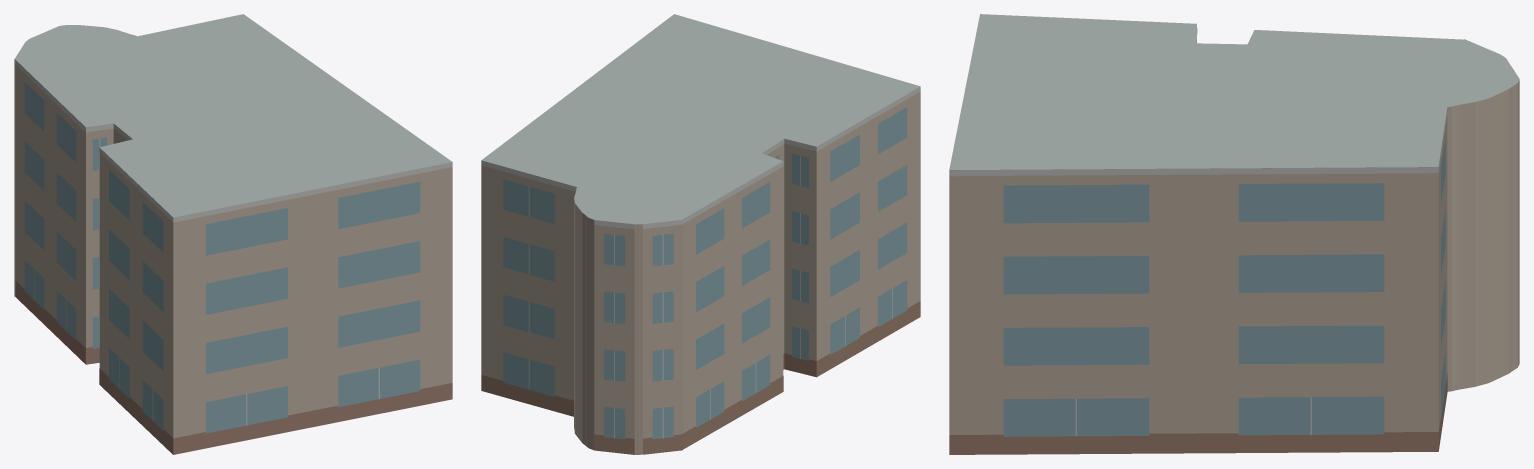
The model's file is survey-upis-32772041.glb.
3 renders of one model, left to right at view 1: azimuth 30°, elevation 25°; view 2: azimuth 150°, elevation 25°; view 3: azimuth 270°, elevation 25°, orthographic. The views are drawn at different scales.
Visible parts, largest first — view 1: survey-upis-32772041.tmp; view 2: survey-upis-32772041.tmp; view 3: survey-upis-32772041.tmp.
Part boxes in pixels (x1,y1,x2,y2): survey-upis-32772041.tmp: [14, 14, 452, 454]; survey-upis-32772041.tmp: [481, 14, 920, 454]; survey-upis-32772041.tmp: [949, 14, 1519, 454].
Size of the model in its own units: 13.39 by 11.38 by 20.68.
